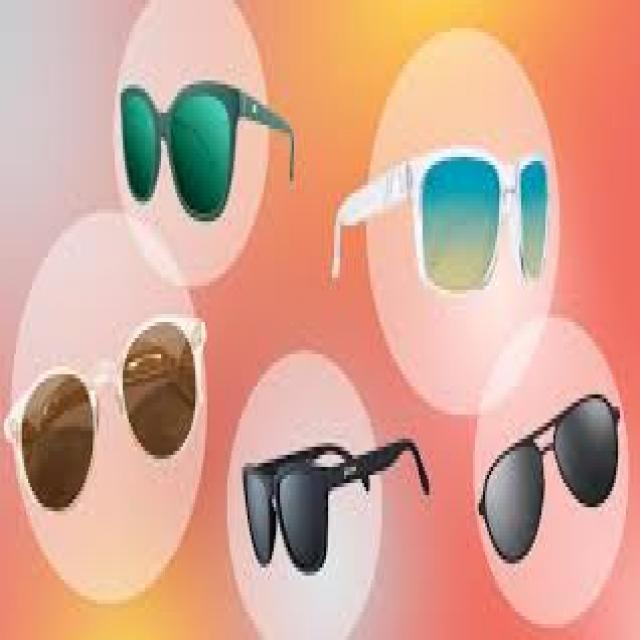suspicious-objects: (232, 412, 362, 590)
